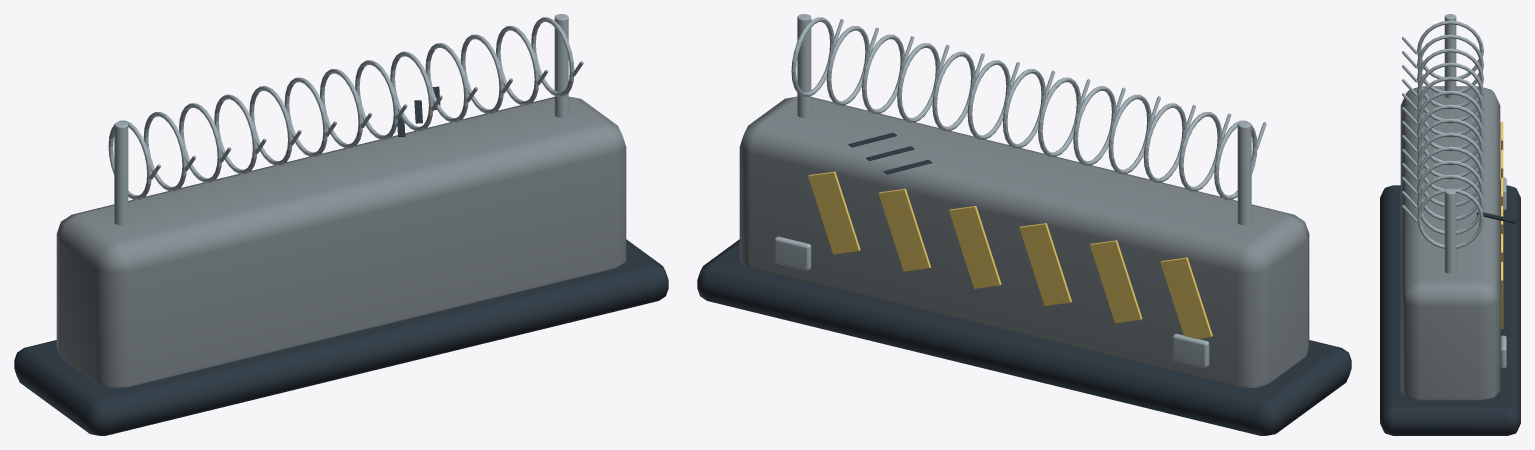
File: 20_barricade.glb
3 views of the same model, side by side, from view 1: azimuth 30°, elevation 25°; view 2: azimuth 150°, elevation 25°; view 3: azimuth 270°, elevation 25° (orthographic). The views are drawn at different scales.
Parts seen in each view (by area): view 1: Barrier armor, Barrier foot, Wire post; view 2: Barrier armor, Barrier foot, Wire post, Hazard stripe; view 3: Barrier armor, Barrier foot, Wire post, Hazard stripe.
Boxes of the visible parts, x1,y1,x2,y2 form: Barrier armor: (56,96,626,388); Barrier foot: (14,86,668,435); Wire post: (108,14,583,225); Barrier armor: (739,96,1309,388); Barrier foot: (697,132,1351,435); Wire post: (774,14,1266,367); Hazard stripe: (808,171,1212,338); Barrier armor: (1400,86,1500,400); Barrier foot: (1380,185,1520,435); Wire post: (1402,14,1506,368); Hazard stripe: (1500,121,1503,329).
Bounding box in the file's own units: 3.3 × 1.48 × 0.85.
